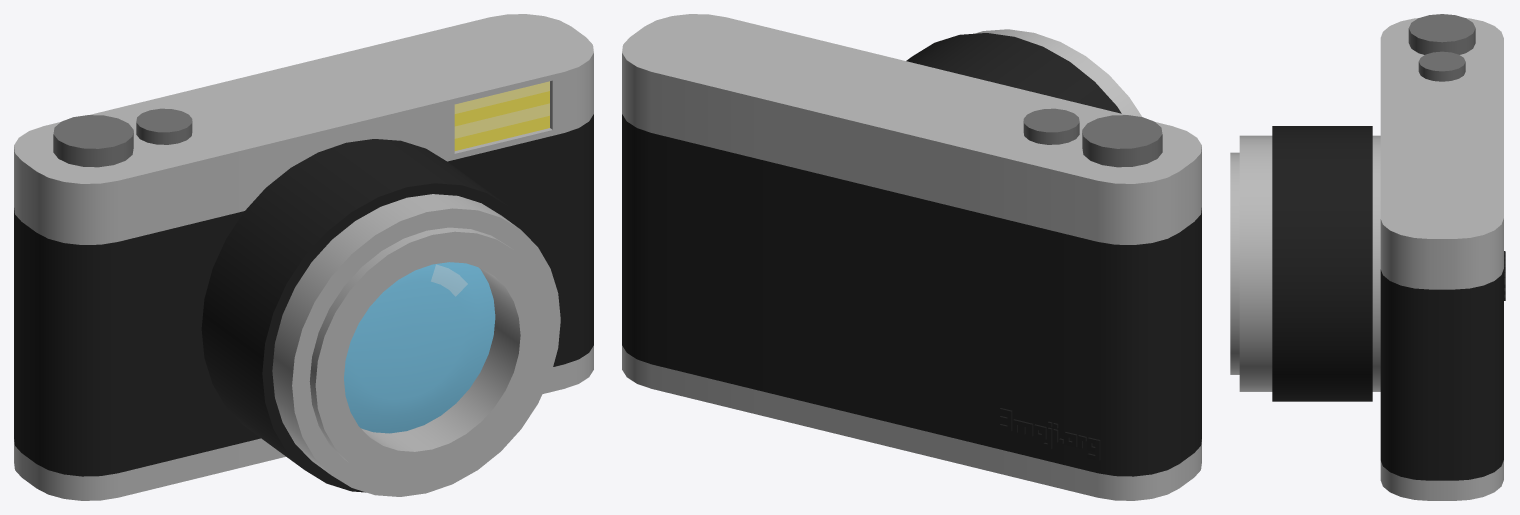
The model's file is camera.fbx.
The picture shows the model from 3 angles, left to right: view 1: azimuth 30°, elevation 25°; view 2: azimuth 150°, elevation 25°; view 3: azimuth 270°, elevation 25°; orthographic projection. The views are drawn at different scales.
Visible parts, largest first — view 1: Cube.940; view 2: Cube.940; view 3: Cube.940.
Boxes of the visible parts, left/top/right/bottom form: Cube.940: left=14, top=14, right=593, bottom=500; Cube.940: left=622, top=14, right=1201, bottom=500; Cube.940: left=1230, top=14, right=1505, bottom=500.
Bounding box in the file's own units: 216 × 126 × 113.
Materials: 1 (1 with a texture image).
